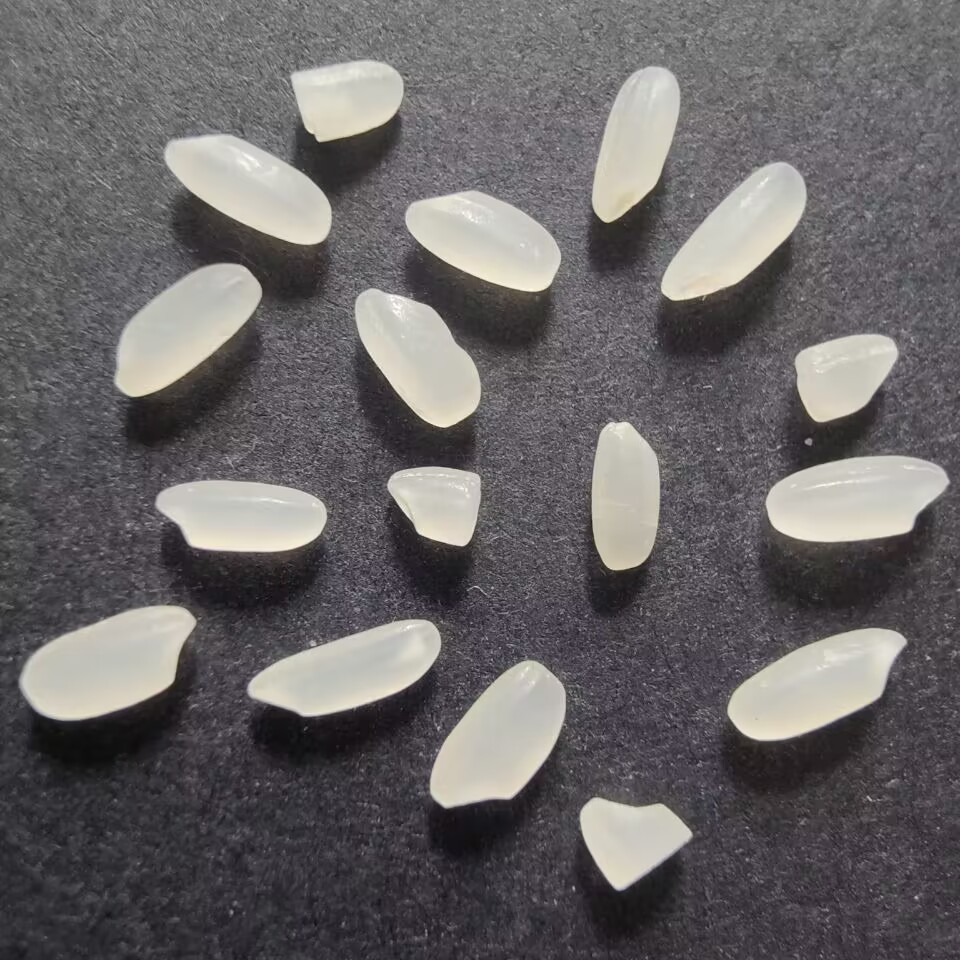broken: (572, 791, 696, 896), (286, 57, 407, 145), (385, 461, 488, 555), (793, 333, 899, 422)
rice: (652, 157, 811, 307), (108, 256, 267, 404), (14, 601, 203, 725), (423, 655, 569, 815), (721, 624, 909, 745), (240, 614, 444, 721), (160, 128, 337, 251), (349, 286, 488, 431), (758, 448, 952, 547), (397, 188, 566, 293), (588, 62, 686, 231), (148, 476, 330, 556), (587, 413, 666, 578)
